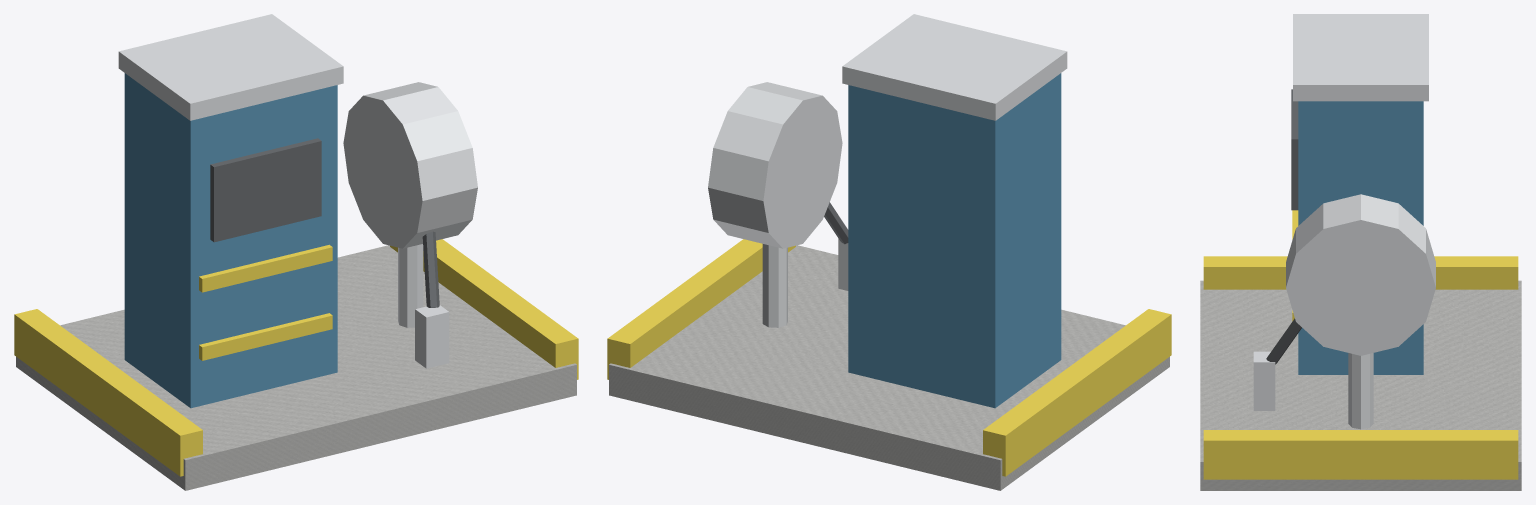
The model's file is fish-market-and-trawler-quay-fish-market-and-trawler-q-bf6bb6e9__37276.glb.
3 renders of one model, left to right at view 1: azimuth 30°, elevation 25°; view 2: azimuth 150°, elevation 25°; view 3: azimuth 270°, elevation 25°, orthographic. The views are drawn at different scales.
Parts seen in each view (by area): view 1: fish-market-and-trawler-quay-fuel-point; view 2: fish-market-and-trawler-quay-fuel-point; view 3: fish-market-and-trawler-quay-fuel-point.
Boxes of the visible parts, x1,y1,x2,y2 form: fish-market-and-trawler-quay-fuel-point: [14, 14, 578, 490]; fish-market-and-trawler-quay-fuel-point: [607, 14, 1171, 490]; fish-market-and-trawler-quay-fuel-point: [1200, 14, 1521, 490].
Bounding box in the file's own units: 2.44 × 1.98 × 1.8.
Materials: 5 (1 with a texture image).
